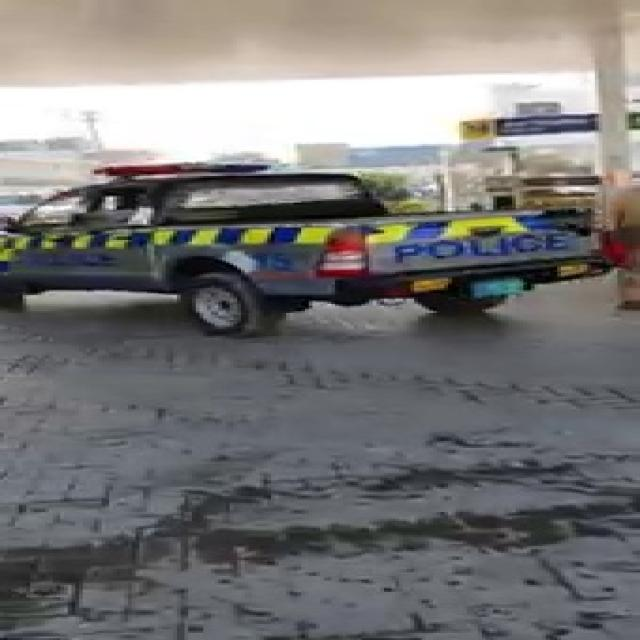police: (0, 168, 547, 330)
